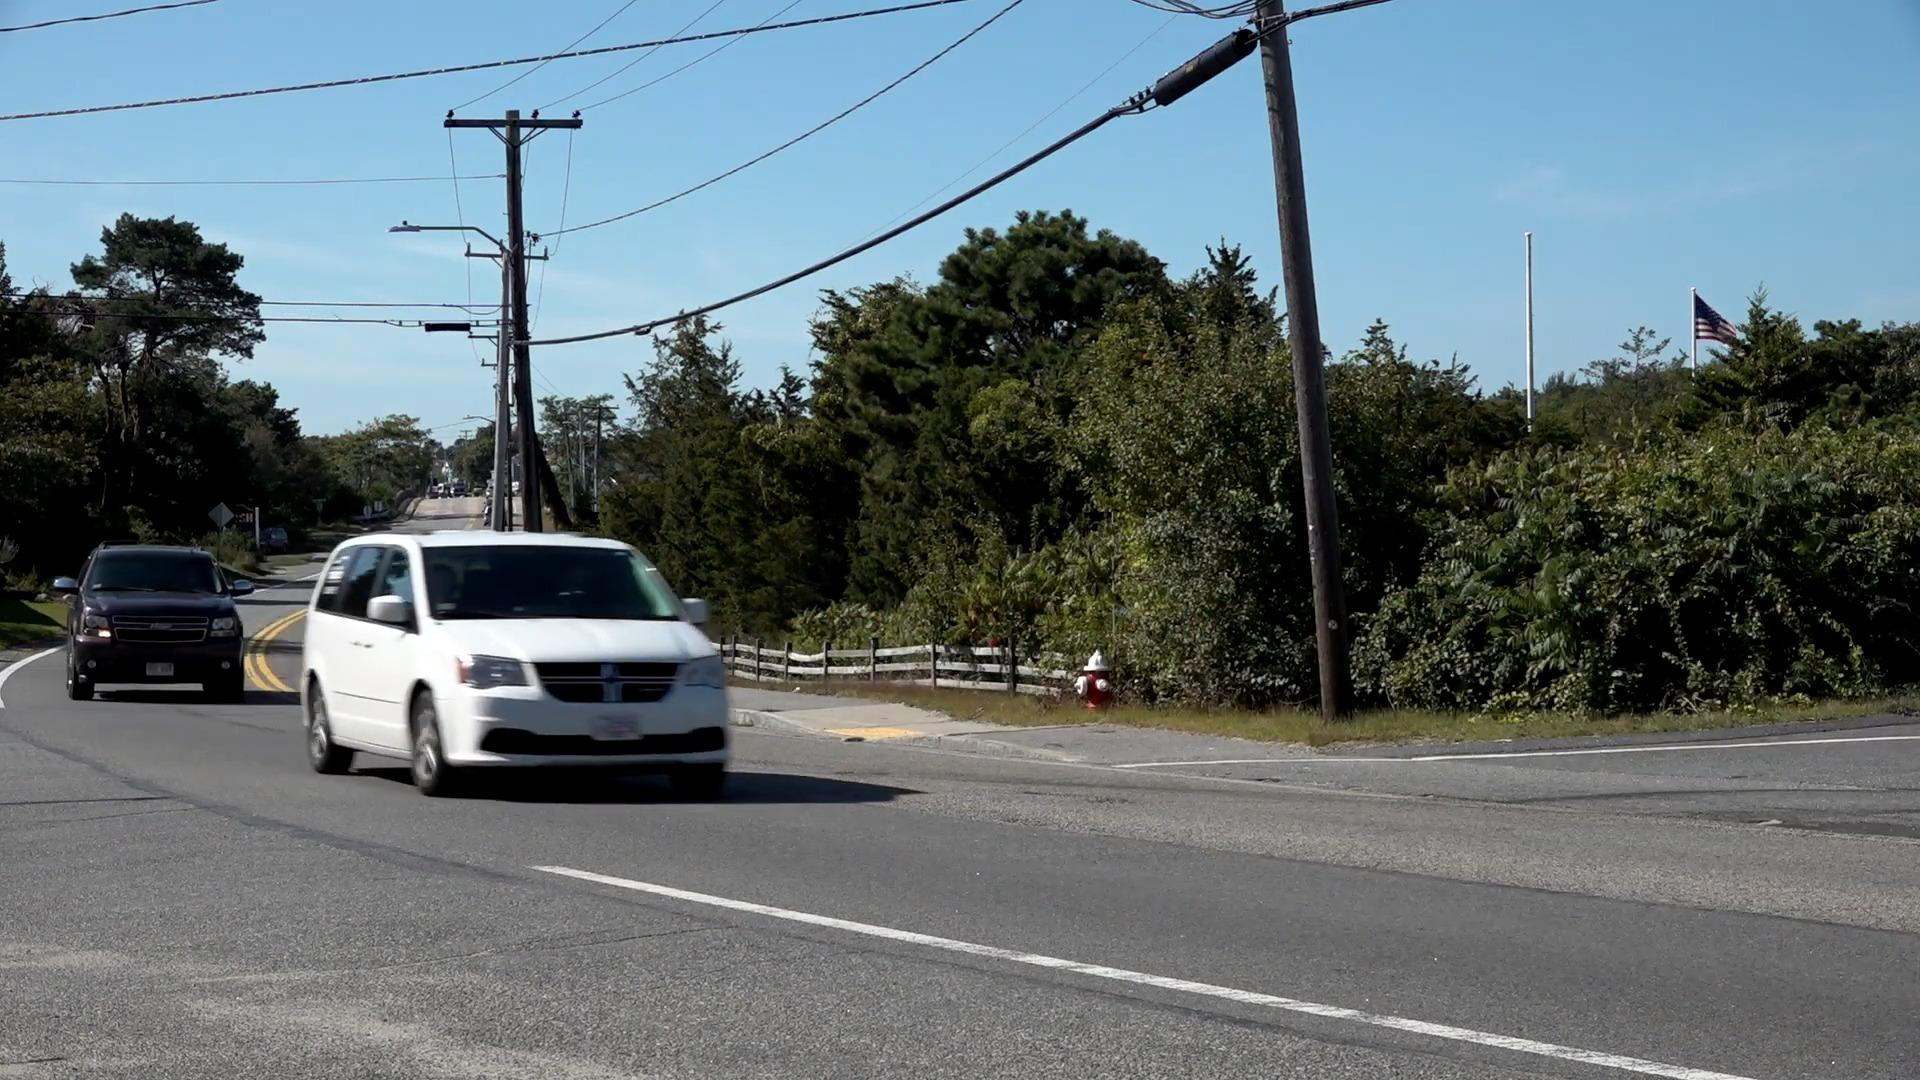minivan: (307, 526, 735, 802)
suv: (54, 537, 253, 702)
